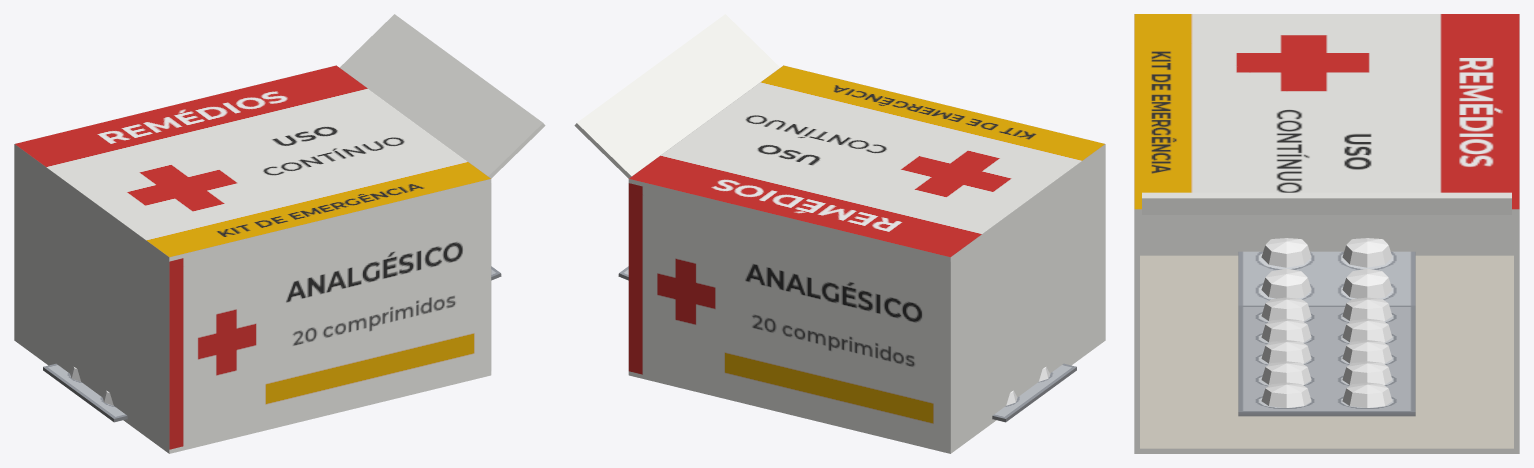
Rendered from Item_Remedios.fbx.
3 renders of one model, left to right at view 1: azimuth 30°, elevation 25°; view 2: azimuth 150°, elevation 25°; view 3: azimuth 270°, elevation 25°, orthographic. The views are drawn at different scales.
Visible parts, largest first — view 1: Item_Remedios; view 2: Item_Remedios; view 3: Item_Remedios.
Part boxes in pixels (x1,y1,x2,y2): Item_Remedios: [14, 14, 545, 453]; Item_Remedios: [574, 14, 1105, 453]; Item_Remedios: [1134, 14, 1519, 453].
Size of the model in its own units: 0.1463 by 0.0843 by 0.1.
Materials: 1 (1 with a texture image).
